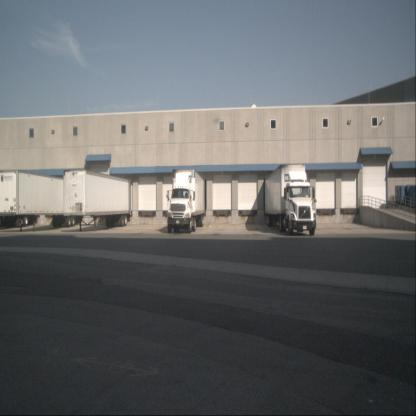vehicle-truck: (285, 180, 316, 236), (167, 187, 193, 233)
